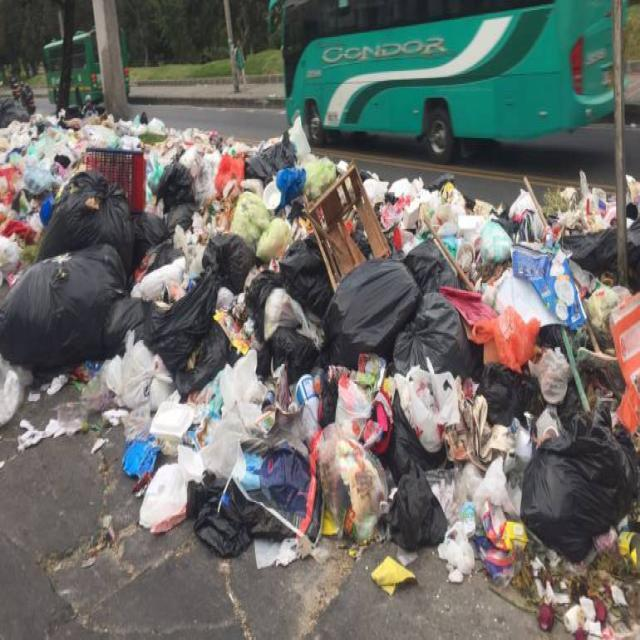Trashbag: (8, 259, 148, 370), (535, 424, 630, 547), (386, 412, 445, 529), (44, 174, 144, 238), (344, 255, 407, 354), (194, 246, 288, 296), (148, 164, 208, 234), (190, 482, 250, 539), (261, 332, 316, 390), (422, 306, 468, 372), (156, 304, 215, 354), (476, 362, 521, 426), (572, 232, 639, 272), (411, 242, 464, 290), (284, 255, 335, 302), (244, 148, 294, 170)
